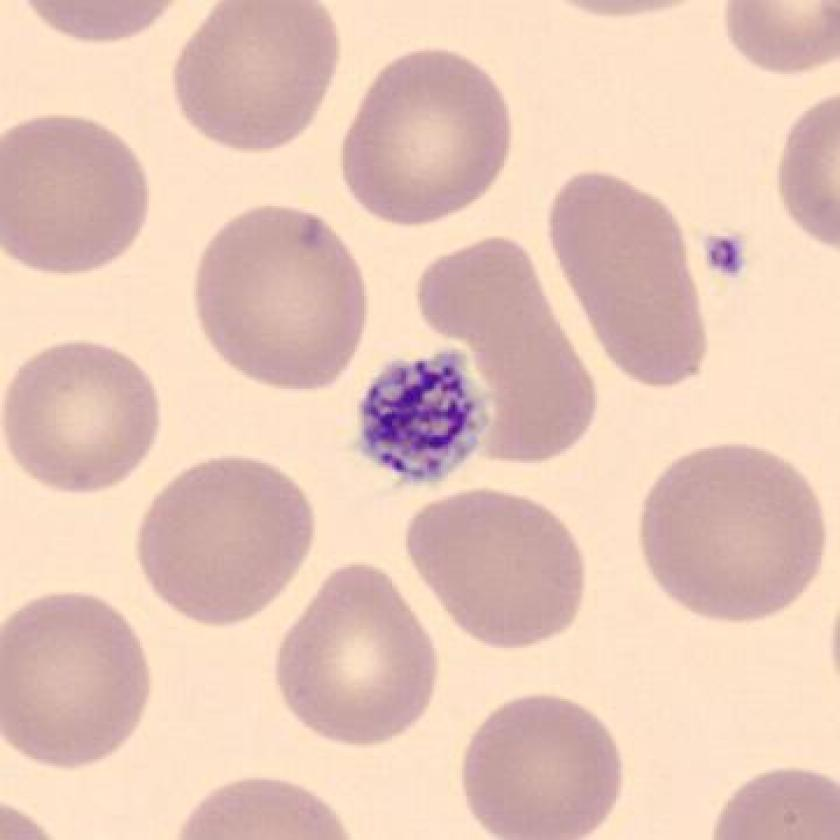platelets: (346, 336, 503, 501), (694, 216, 766, 293)
